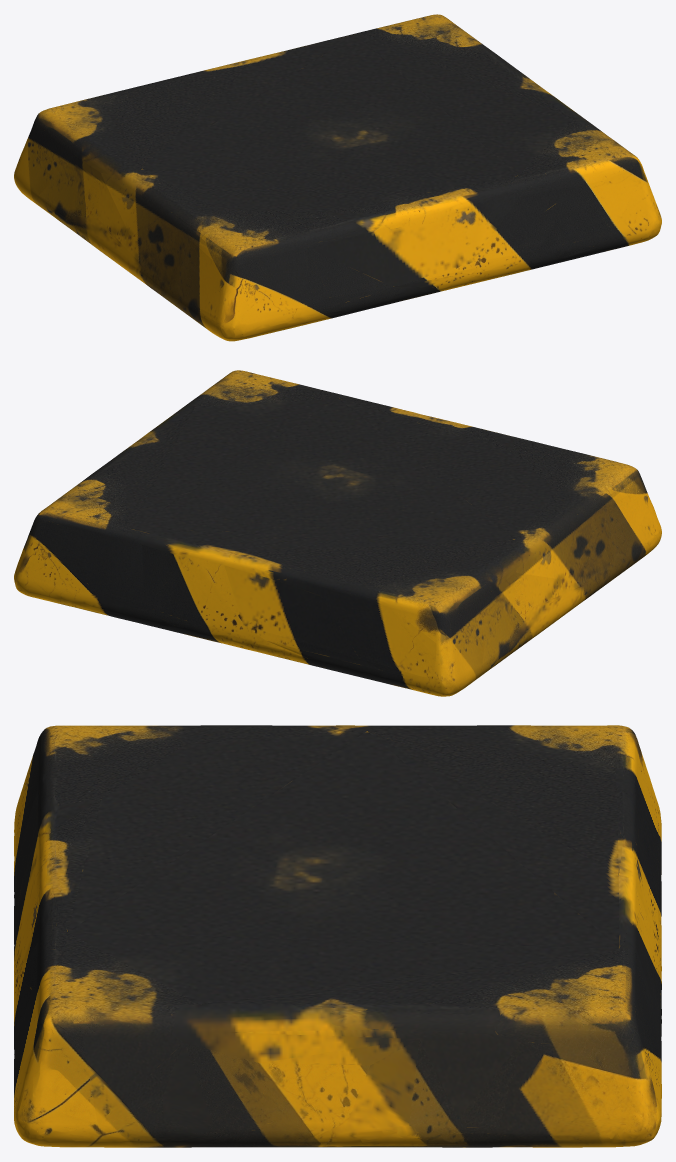
Rendered from lombada__01a163ba.glb.
3 views of the same model, one above another, from view 1: azimuth 30°, elevation 25°; view 2: azimuth 150°, elevation 25°; view 3: azimuth 270°, elevation 25° (orthographic). The views are drawn at different scales.
Visible parts, largest first — view 1: lombada__01a163ba; view 2: lombada__01a163ba; view 3: lombada__01a163ba.
Boxes of the visible parts, x1,y1,x2,y2 form: lombada__01a163ba: (14,14,661,341); lombada__01a163ba: (14,370,661,696); lombada__01a163ba: (14,725,661,1147).
Size of the model in its own units: 0.541 by 0.1 by 0.459.
Materials: 1 (1 with a texture image).
